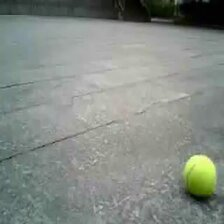tennis: (185, 156, 216, 194)
